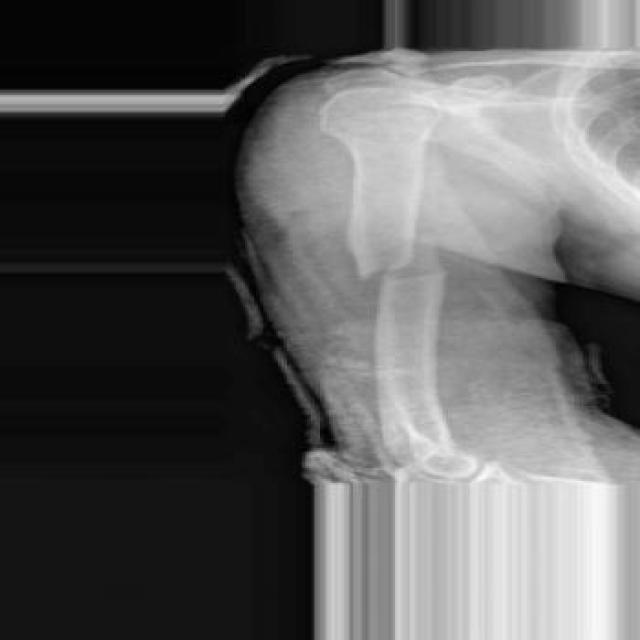Fracture: (344, 258, 458, 292)
